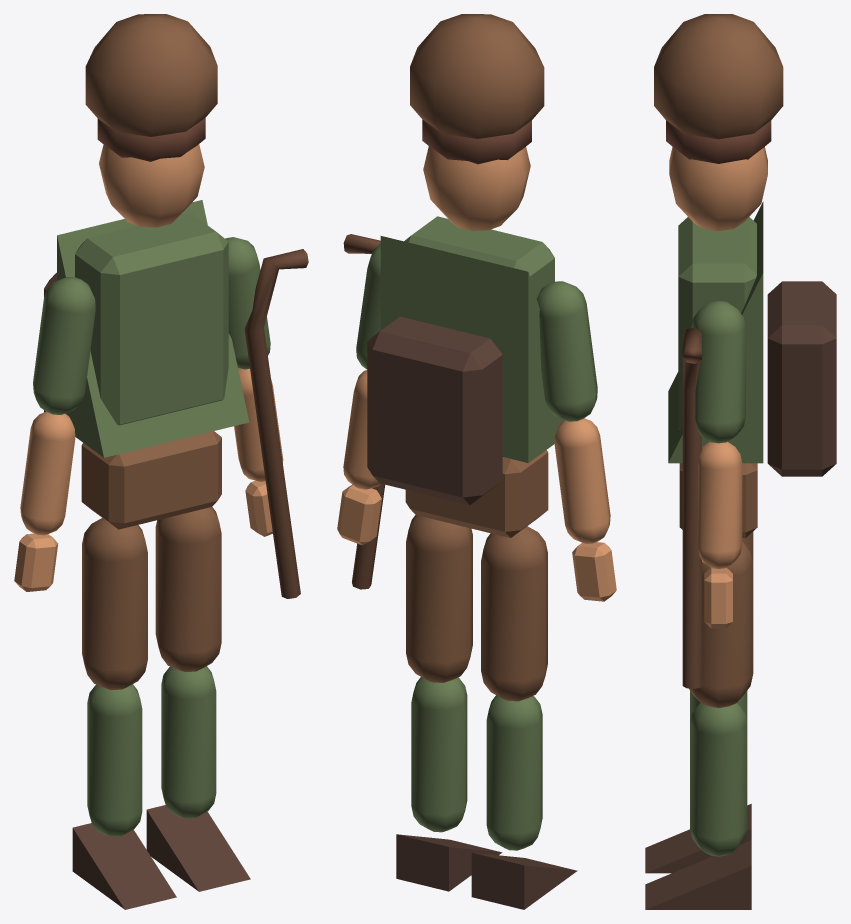
Rendered from adventurer.rustic.glb.
3 views of the same model, side by side, from view 1: azimuth 30°, elevation 25°; view 2: azimuth 150°, elevation 25°; view 3: azimuth 270°, elevation 25° (orthographic).
Visible parts, largest first — view 1: torso, accessory.head, thigh.left, pelvis, thigh.right, tunic, shin.right, shin.left, accessory.main-hand, upper-arm.left, head, foot.left (+7 smaller); view 2: accessory.back, tunic, accessory.head, thigh.left, thigh.right, shin.right, shin.left, upper-arm.left, head, pelvis, forearm.left, torso (+8 smaller); view 3: accessory.head, accessory.back, shin.right, torso, upper-arm.right, accessory.main-hand, head, thigh.right, forearm.right, tunic, foot.right, hair (+3 smaller).
Part boxes in pixels (x1,y1,x2,y2): torso: (75, 213, 228, 425); accessory.head: (85, 14, 217, 136); thigh.left: (82, 518, 147, 690); pelvis: (81, 431, 221, 529); thigh.right: (155, 507, 221, 671); tunic: (57, 200, 249, 457); shin.right: (161, 666, 216, 818); shin.left: (87, 684, 142, 836); accessory.main-hand: (244, 249, 308, 598); upper-arm.left: (33, 277, 95, 414); head: (99, 144, 204, 227); foot.left: (72, 823, 176, 909); accessory.back: (367, 316, 502, 505); tunic: (380, 236, 564, 462); accessory.head: (410, 14, 544, 138); thigh.left: (481, 526, 547, 701); thigh.right: (406, 515, 472, 682); shin.right: (411, 677, 467, 832); shin.left: (486, 695, 542, 850); upper-arm.left: (537, 281, 597, 421); head: (423, 146, 530, 230); pelvis: (405, 450, 548, 537); forearm.left: (554, 418, 610, 543); torso: (404, 216, 554, 298); accessory.head: (654, 14, 783, 139); accessory.back: (767, 281, 836, 476); shin.right: (690, 703, 747, 856); torso: (678, 217, 756, 429); upper-arm.right: (691, 300, 745, 443); accessory.main-hand: (682, 327, 701, 688); head: (669, 147, 767, 231); thigh.right: (688, 542, 753, 708); forearm.right: (698, 441, 742, 568); tunic: (668, 201, 763, 463); foot.right: (645, 840, 751, 909); hair: (666, 120, 771, 163).
Size of the model in its own units: 1.11 by 3.29 by 0.665.
